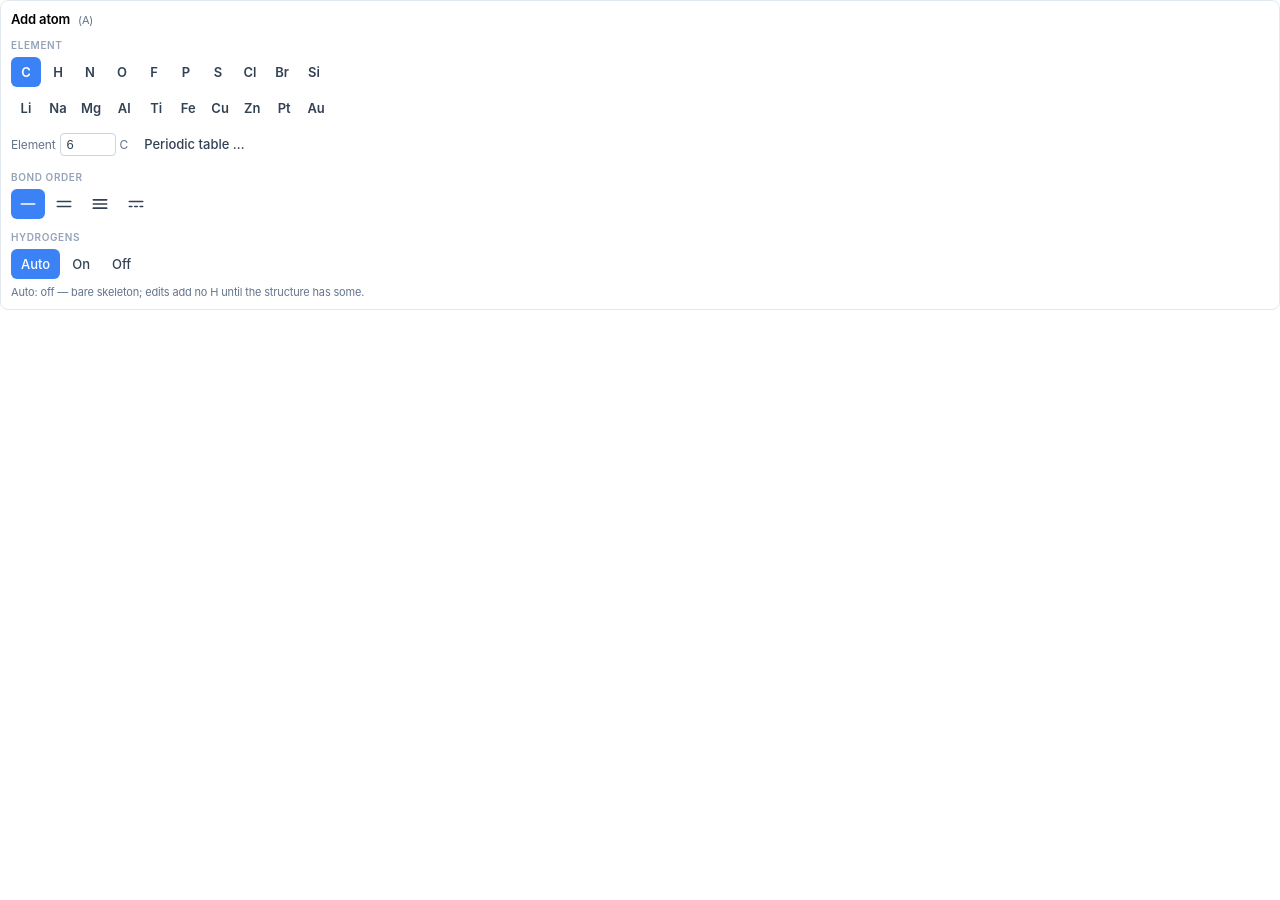
it: ContextBar — Element › a pick from the periodic table is remembered
Expected: the element "Recent" is not shown
Click the button with test id "builder-element-table".
click(194, 144)  # box top-left (134, 129), bottom-right (255, 159)
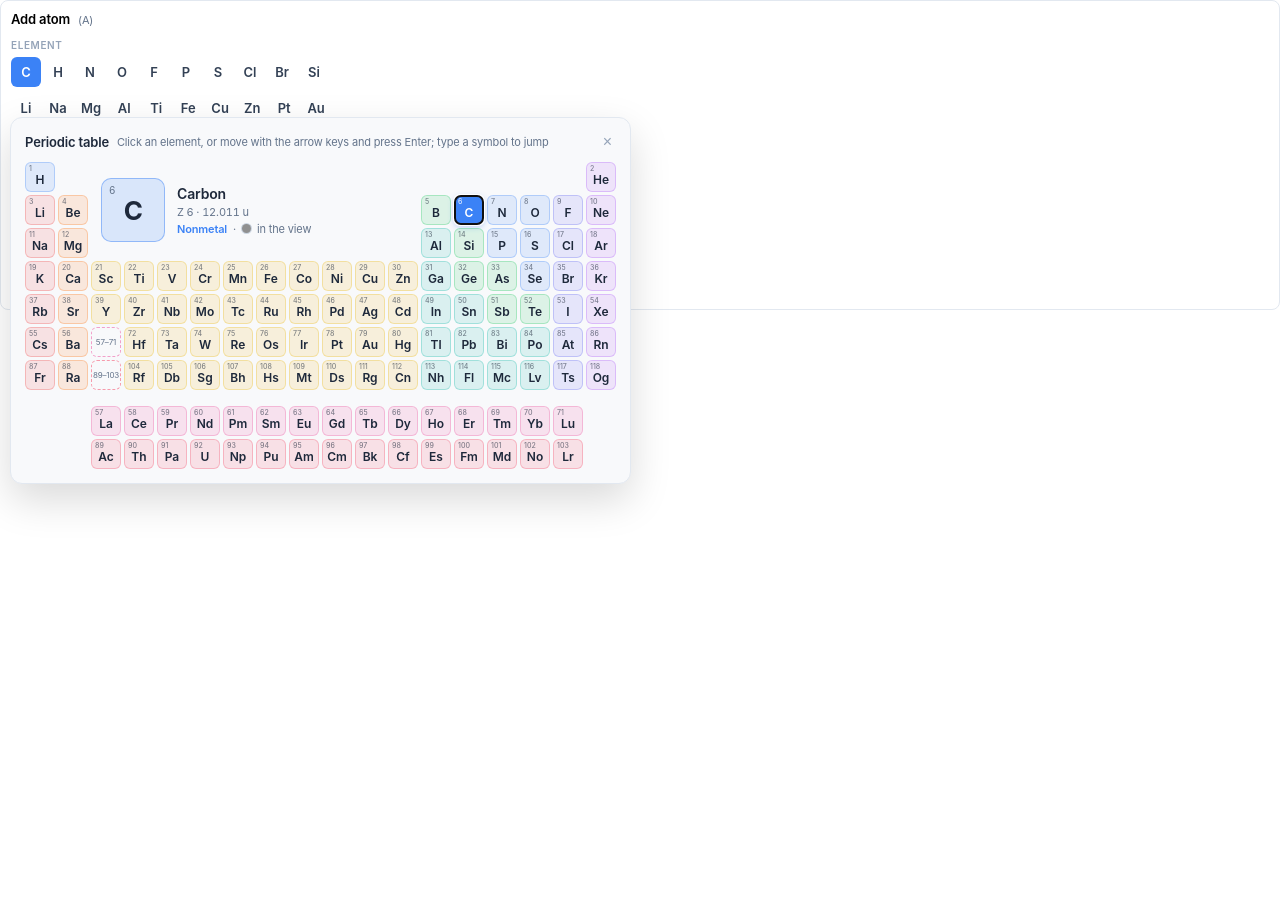
Click the button with test id "builder-periodic-Ru".
click(271, 309)  # box top-left (256, 294), bottom-right (286, 324)
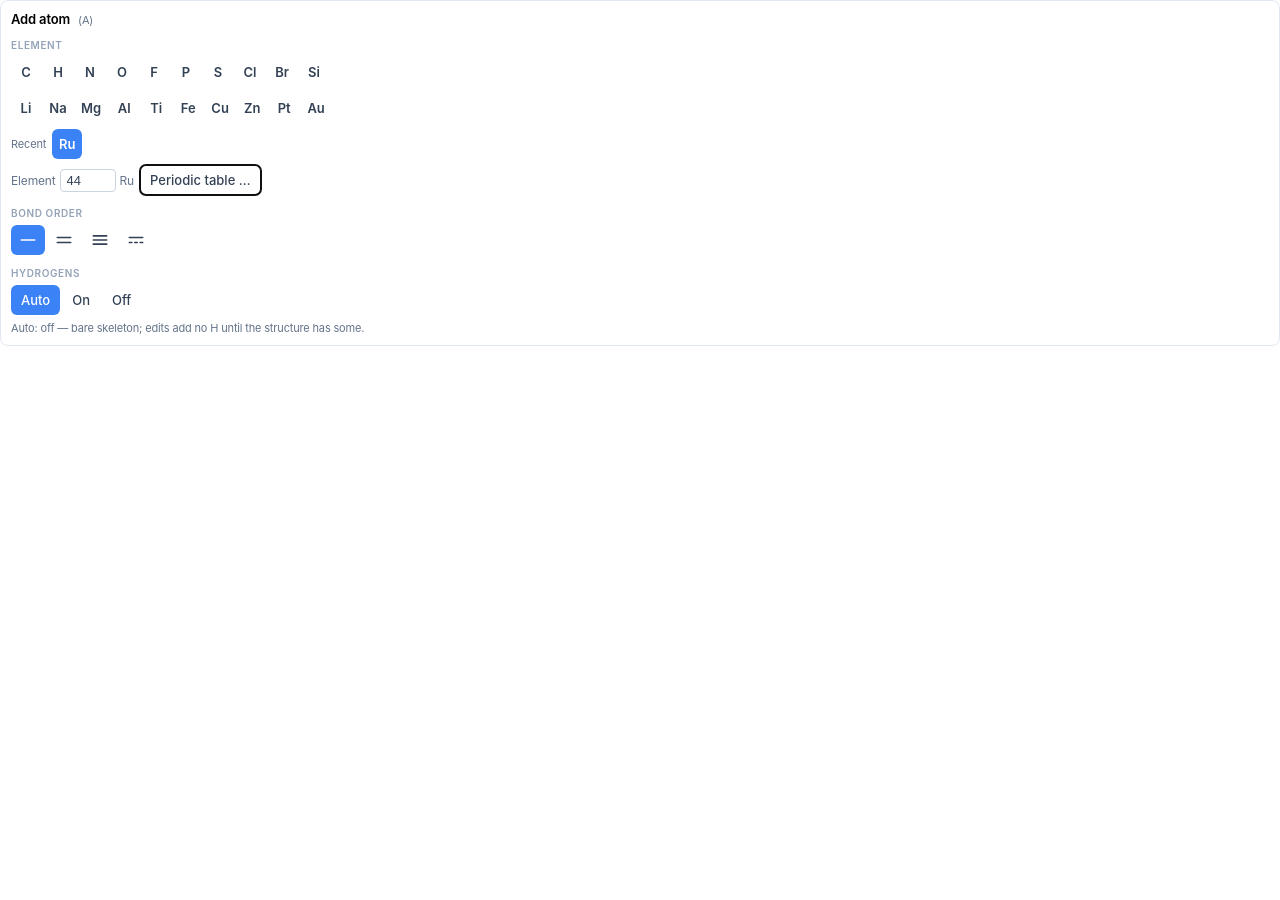
Result: the button with test id "builder-element-recent-Ru" is shown at top-left (52, 129), bottom-right (82, 159)
